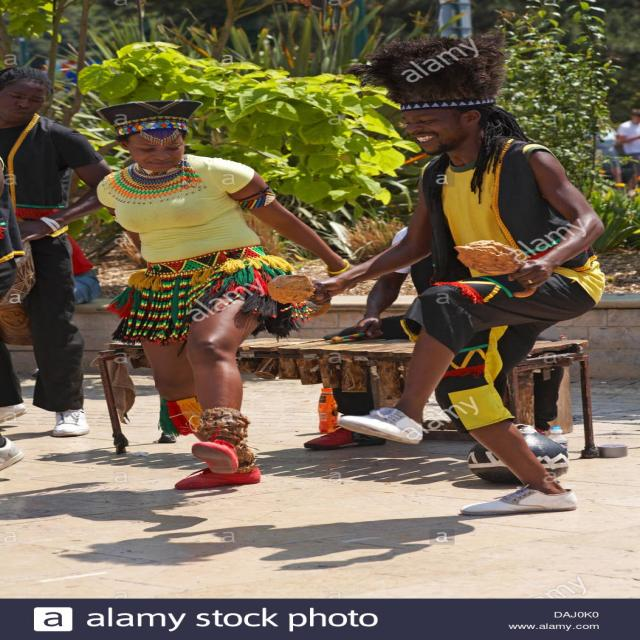body: (263, 32, 610, 516), (86, 97, 367, 487), (301, 222, 568, 452), (0, 64, 115, 435), (594, 118, 624, 192), (616, 106, 639, 196)
